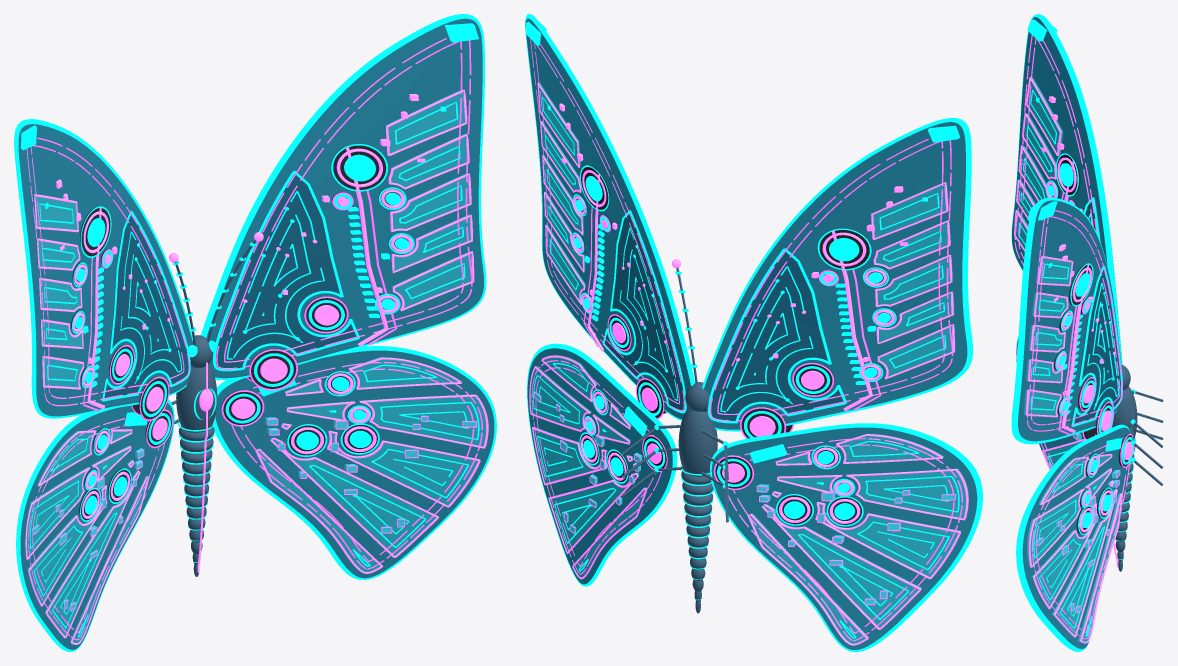
Rendered from cyber_butterfly.glb.
The picture shows the model from 3 angles, left to right: view 1: azimuth 30°, elevation 25°; view 2: azimuth 150°, elevation 25°; view 3: azimuth 270°, elevation 25°; orthographic projection. The views are drawn at different scales.
Visible parts, largest first — view 1: membrane, panel, cyan, magenta, lens, magenta_dim, cyan_dim, socket, body, panel_hi; view 2: membrane, panel, cyan, magenta, lens, magenta_dim, cyan_dim, body, socket, panel_hi; view 3: membrane, panel, cyan, magenta, magenta_dim, lens, cyan_dim, body, socket, panel_hi.
Boxes of the visible parts, x1,y1,x2,y2 form: membrane: [18, 18, 494, 649]; panel: [24, 89, 485, 642]; cyan: [14, 14, 496, 651]; magenta: [25, 89, 488, 644]; lens: [102, 171, 356, 398]; magenta_dim: [26, 38, 482, 640]; cyan_dim: [35, 144, 467, 614]; socket: [71, 145, 409, 520]; body: [171, 240, 256, 576]; panel_hi: [31, 415, 475, 610]; membrane: [525, 18, 977, 649]; panel: [530, 82, 968, 643]; cyan: [525, 14, 982, 651]; magenta: [529, 82, 968, 645]; lens: [604, 210, 843, 420]; magenta_dim: [530, 39, 962, 641]; cyan_dim: [538, 165, 947, 606]; body: [622, 267, 728, 613]; socket: [574, 166, 896, 524]; panel_hi: [534, 391, 956, 604]; membrane: [1012, 17, 1130, 648]; panel: [1016, 77, 1120, 642]; cyan: [1011, 14, 1135, 651]; magenta: [1014, 77, 1132, 643]; magenta_dim: [1014, 35, 1134, 639]; lens: [1070, 198, 1120, 426]; cyan_dim: [1038, 153, 1136, 616]; body: [1111, 365, 1163, 571]; socket: [1050, 154, 1131, 533]; panel_hi: [1034, 433, 1119, 613].
Size of the model in its own units: 1.78 by 2 by 0.5707.
